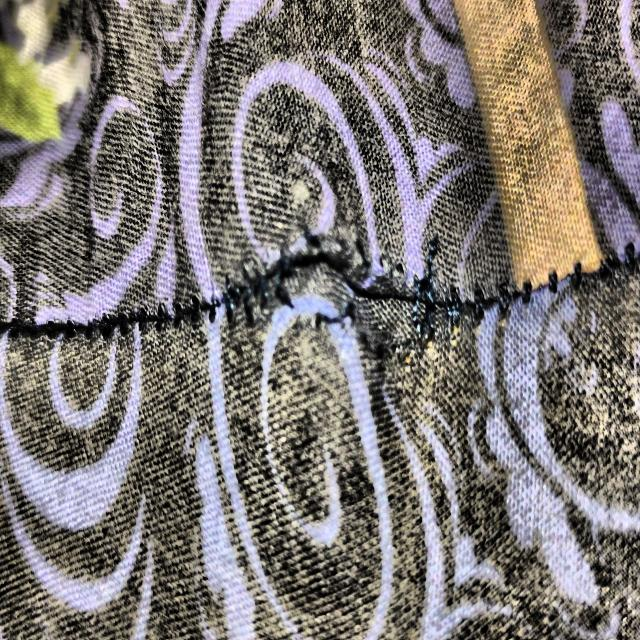seam: (173, 198, 494, 458)
